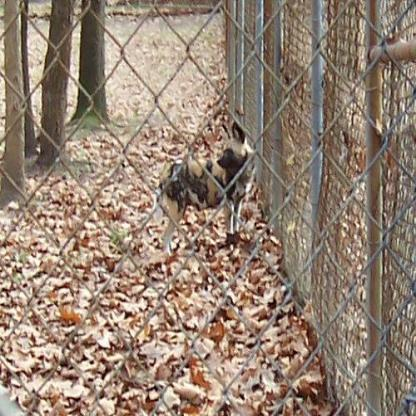African_hunting_dog: (154, 109, 254, 248)
